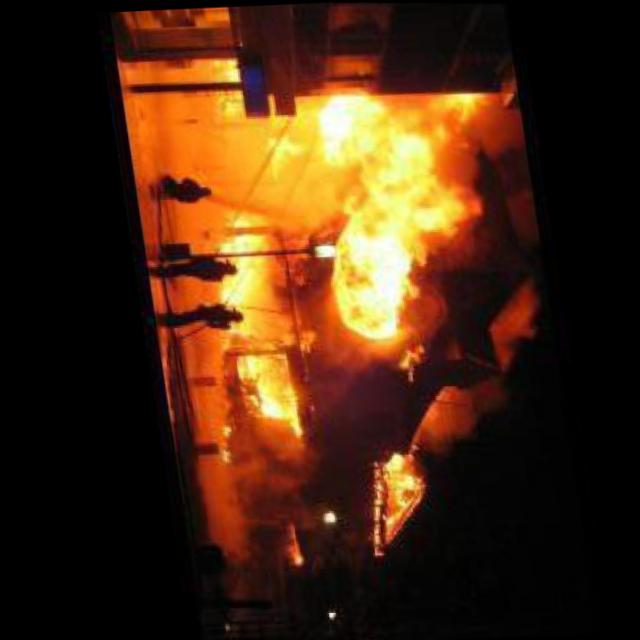Fire: (180, 70, 530, 531)
